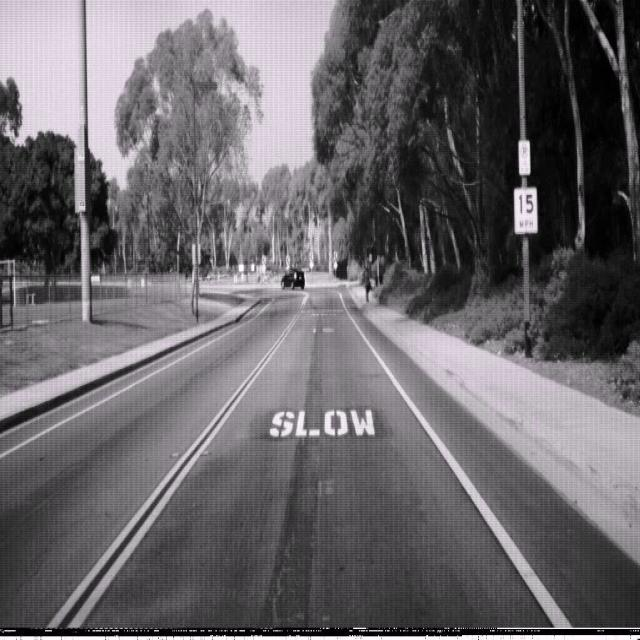speedLimit15: (513, 185, 538, 234)
